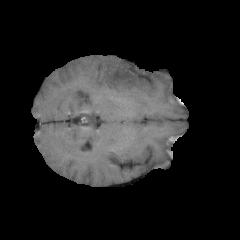glioma: (107, 62, 144, 95)
